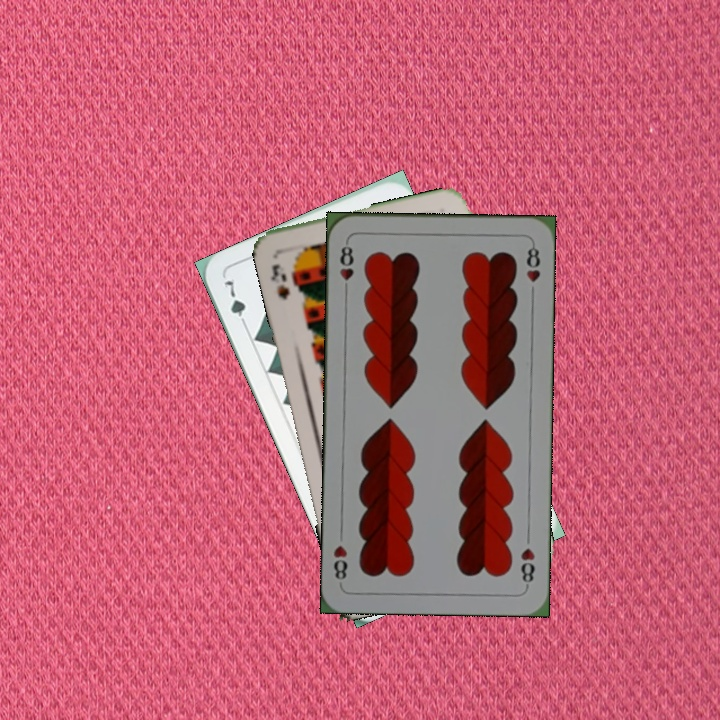G7: (220, 276, 250, 331)
H8: (336, 238, 356, 297), (516, 544, 537, 590)
S8: (266, 260, 292, 302)
